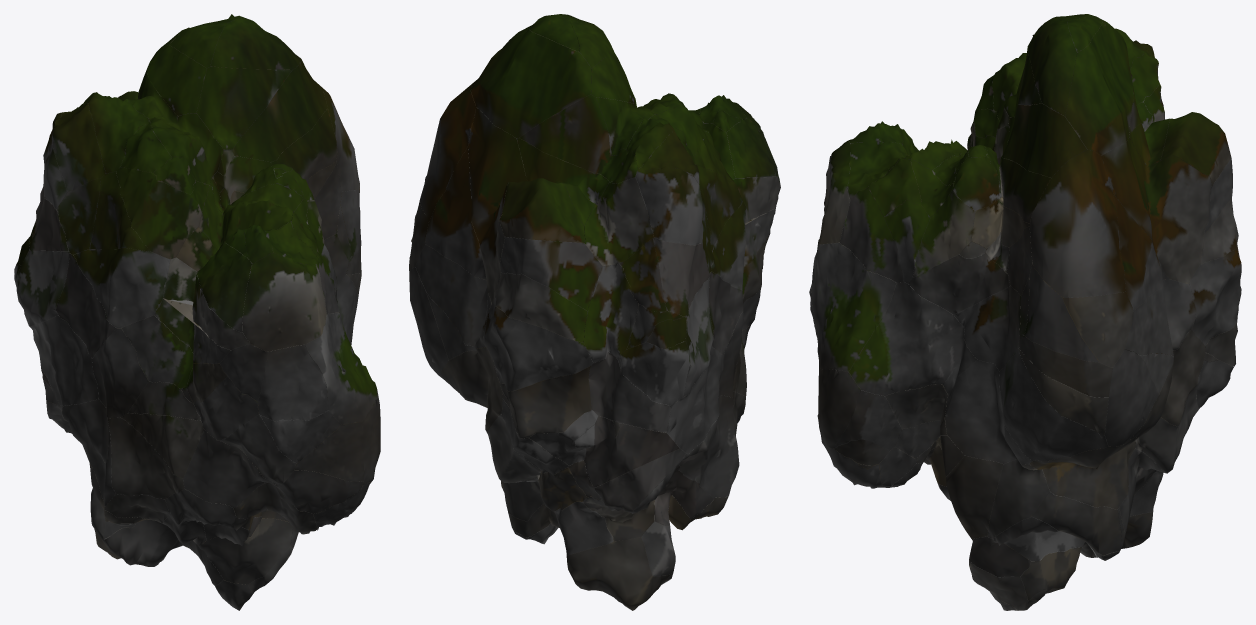
File: generic_island_5.fbx
The picture shows the model from 3 angles, left to right: view 1: azimuth 30°, elevation 25°; view 2: azimuth 150°, elevation 25°; view 3: azimuth 270°, elevation 25°; orthographic projection. The views are drawn at different scales.
Parts seen in each view (by area): view 1: rock_cell.247, rock_cell.016, rock_cell.249, rock_cell.018, rock_cell.262, rock_cell.071, rock_cell.158, rock_cell.021, rock_cell.178, rock_cell.251, rock_cell.225, rock_cell.057 (+55 smaller); view 2: rock_cell.186, rock_cell.073, rock_cell.253, rock_cell.020, rock_cell.110, rock_cell.029, rock_cell.112, rock_cell.172, rock_cell.097, rock_cell.134, rock_cell.024, rock_cell.245 (+51 smaller); view 3: rock_cell.192, rock_cell.073, rock_cell.243, rock_cell.071, rock_cell.186, rock_cell.205, rock_cell.276, rock_cell.139, rock_cell.262, rock_cell.002, rock_cell.097, rock_cell.213 (+54 smaller).
Boxes of the visible parts, <box> form: rock_cell.247: <box>242,253,326,351</box>; rock_cell.016: <box>73,248,169,327</box>; rock_cell.249: <box>116,167,209,259</box>; rock_cell.018: <box>196,66,291,150</box>; rock_cell.262: <box>232,61,327,161</box>; rock_cell.071: <box>305,313,377,424</box>; rock_cell.158: <box>258,344,328,421</box>; rock_cell.021: <box>183,430,276,507</box>; rock_cell.178: <box>30,315,98,405</box>; rock_cell.251: <box>108,417,184,498</box>; rock_cell.225: <box>198,518,292,584</box>; rock_cell.057: <box>92,328,148,418</box>; rock_cell.186: <box>470,29,591,138</box>; rock_cell.073: <box>468,107,526,304</box>; rock_cell.253: <box>483,298,593,391</box>; rock_cell.020: <box>519,94,637,183</box>; rock_cell.110: <box>500,237,602,310</box>; rock_cell.029: <box>566,537,669,610</box>; rock_cell.112: <box>499,178,584,242</box>; rock_cell.172: <box>584,177,653,265</box>; rock_cell.097: <box>415,245,490,348</box>; rock_cell.134: <box>635,167,703,245</box>; rock_cell.024: <box>500,366,591,438</box>; rock_cell.245: <box>425,147,486,279</box>; rock_cell.192: <box>1029,149,1125,297</box>; rock_cell.073: <box>1101,137,1211,284</box>; rock_cell.243: <box>849,282,976,395</box>; rock_cell.071: <box>811,243,896,371</box>; rock_cell.186: <box>1065,20,1133,155</box>; rock_cell.205: <box>999,346,1107,461</box>; rock_cell.276: <box>942,360,1031,464</box>; rock_cell.139: <box>1030,437,1138,509</box>; rock_cell.262: <box>1003,103,1086,177</box>; rock_cell.002: <box>908,252,1009,314</box>; rock_cell.097: <box>1124,279,1195,355</box>; rock_cell.213: <box>954,286,1020,371</box>.
Bounding box in the file's own units: 446 × 793 × 518.
1 material, 1 textured.
